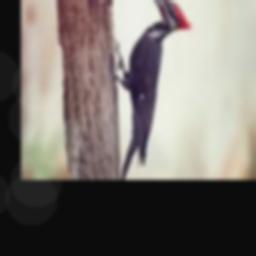Woodpecker: (114, 0, 191, 180)
